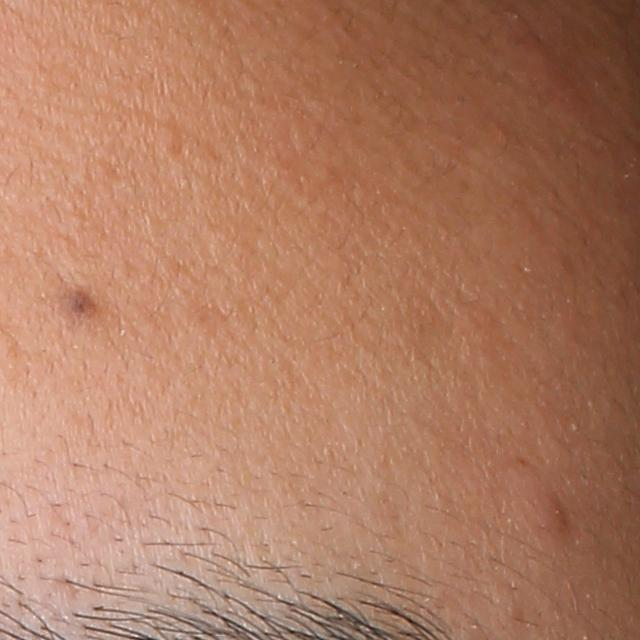comedo: (154, 119, 182, 158)
nevus: (64, 282, 102, 326)
